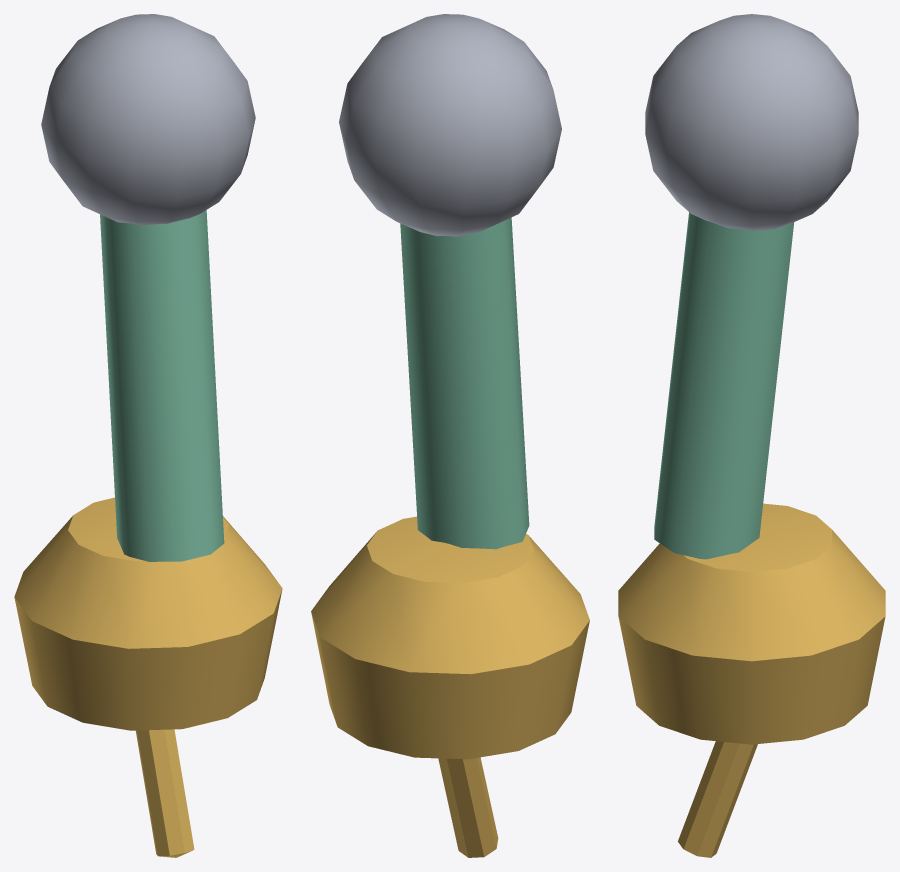
The model's file is Bot_ArmOil.fbx.
3 renders of one model, left to right at view 1: azimuth 30°, elevation 25°; view 2: azimuth 150°, elevation 25°; view 3: azimuth 270°, elevation 25°, orthographic. The views are drawn at different scales.
Visible parts, largest first — view 1: Bot_ArmOil; view 2: Bot_ArmOil; view 3: Bot_ArmOil.
Boxes of the visible parts, <box> form: Bot_ArmOil: <box>14,14,282,857</box>; Bot_ArmOil: <box>311,14,589,857</box>; Bot_ArmOil: <box>618,14,885,857</box>.
Size of the model in its own units: 0.06 by 0.2005 by 0.0585.
